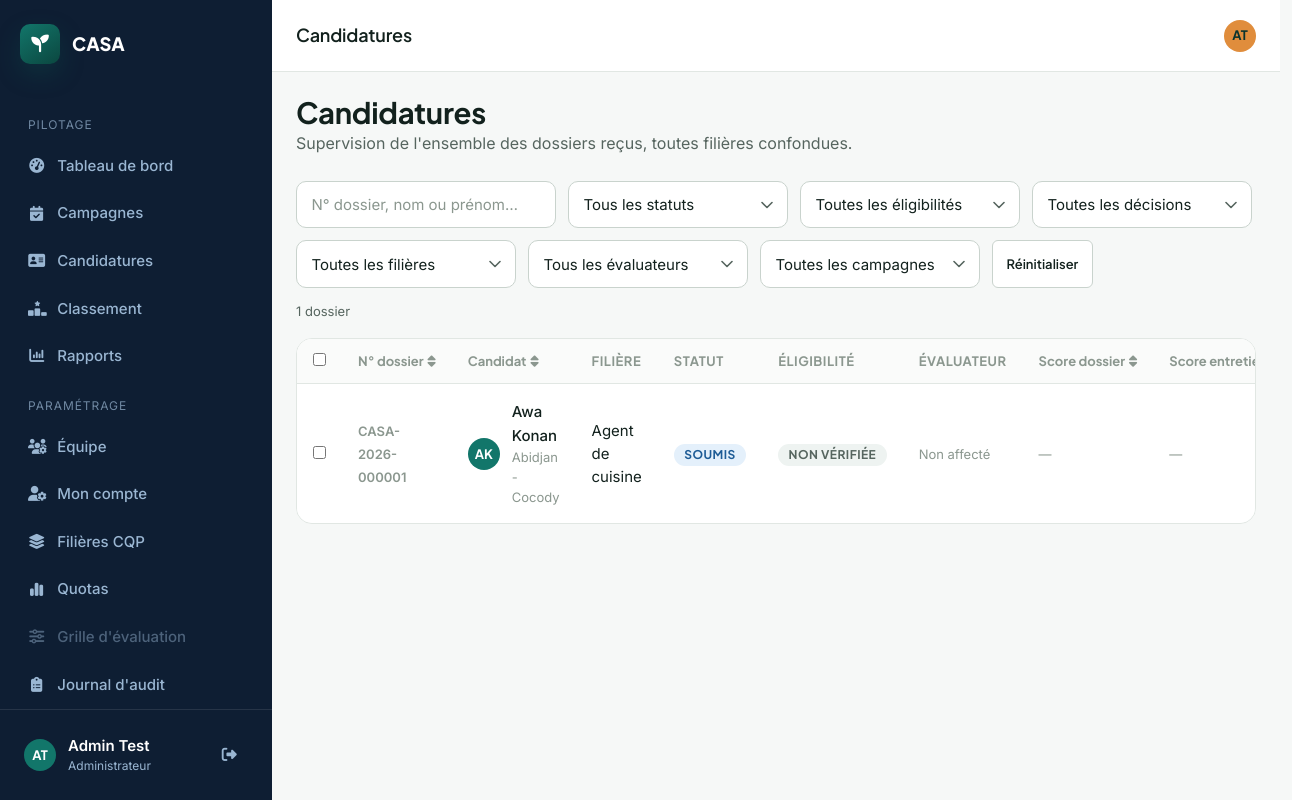
it: CandidaturesSupervision — affichage › changer un filtre vide la sélection (aucune action groupée sur un dossier qui disparaît)
Expected: the text "CASA-2026-000001" is shown, [358,423,406,485]
Click the checkbox named "sélectionner casa-2026-000001" at (320, 453), box [313,446,326,459]
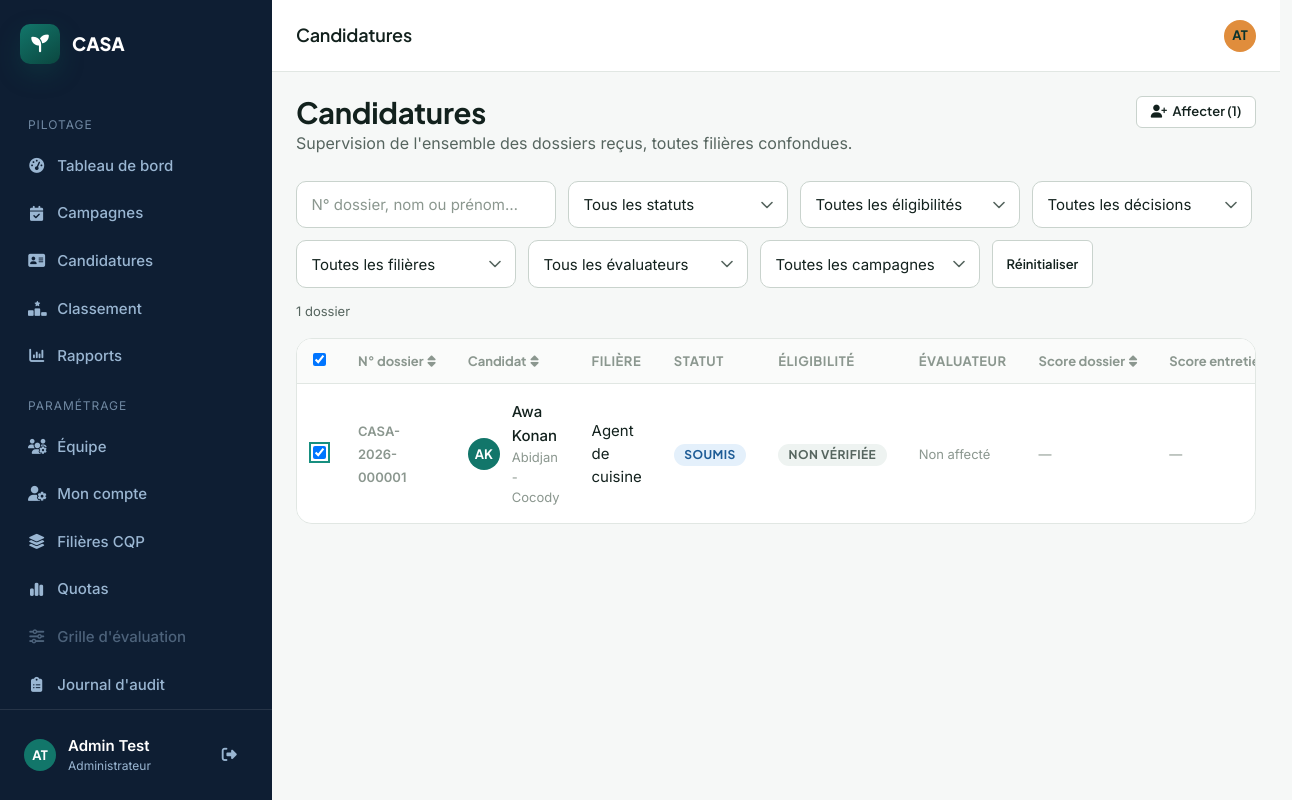
Now the button "Affecter (1)" is shown, box [1136,96,1256,128]
Select "En cours d’instruction" in the 1st dropdown showing "Tous les statuts" at (678, 205), box [568,181,788,228]
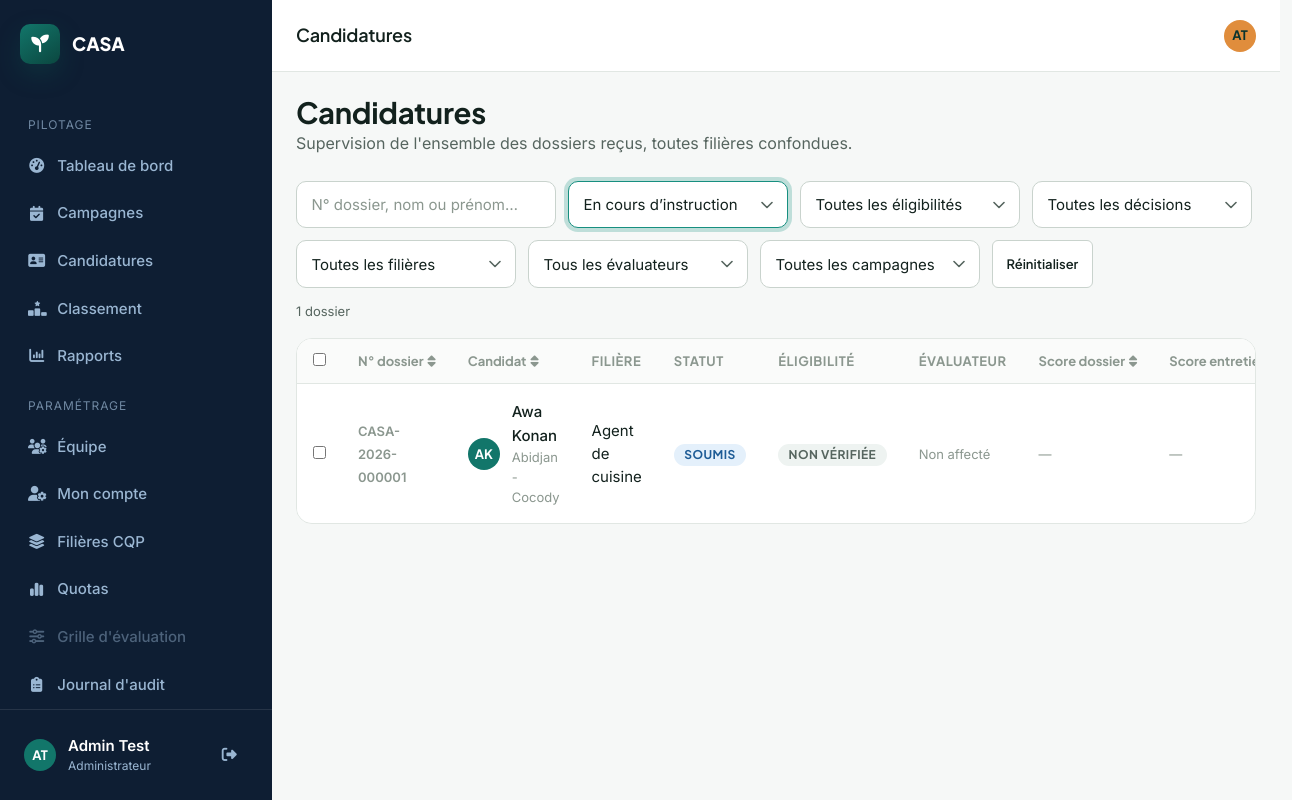
Now the button "Affecter (" is gone
